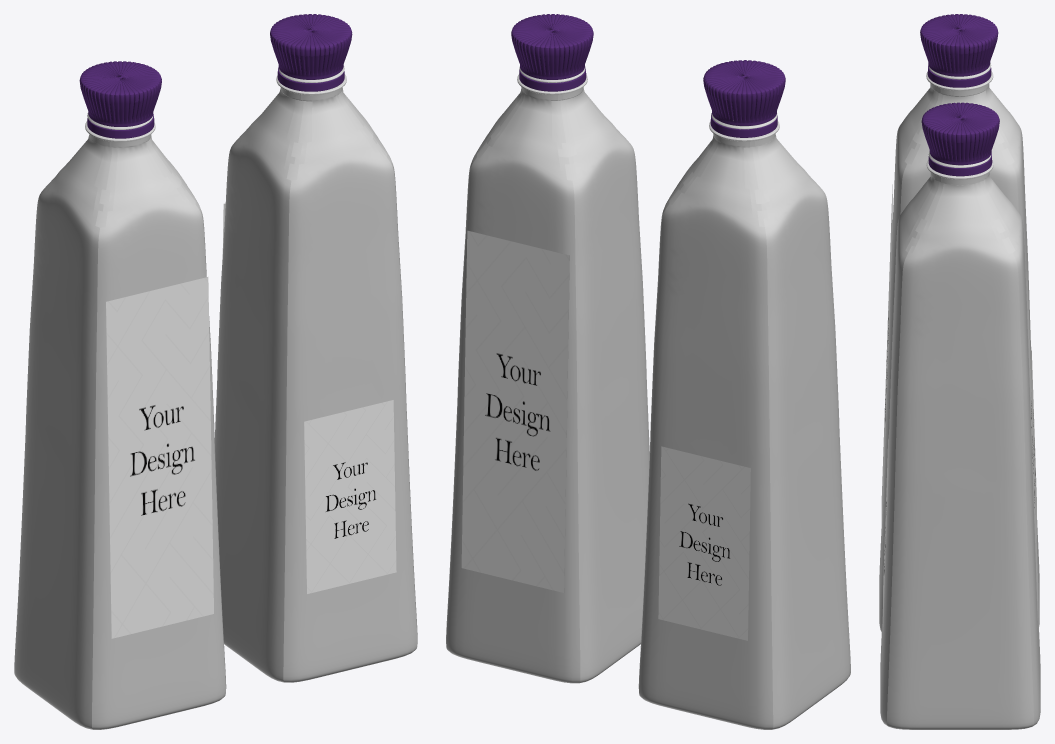
File: Plastic Bottle A-1.glb
The picture shows the model from 3 angles, left to right: view 1: azimuth 30°, elevation 25°; view 2: azimuth 150°, elevation 25°; view 3: azimuth 270°, elevation 25°; orthographic projection. The views are drawn at different scales.
Visible parts, largest first — view 1: bottle001.001, bottle001, Plane.001, Plane.004, Mesh_1, Mesh_1.001, Circle003001, Circle003001.001; view 2: bottle001, bottle001.001, Plane.004, Plane.001, Mesh_1, Mesh_1.001, Circle003001.001; view 3: bottle001.001, bottle001, Mesh_1, Mesh_1.001, Plane.001, Plane.004, Circle003001, Circle003001.001.
Boxes of the visible parts, x1,y1,x2,y2 form: bottle001.001: (214,66,417,682); bottle001: (14,113,226,729); Plane.001: (106,277,213,638); Plane.004: (222,210,396,593); Mesh_1: (79,61,161,126); Mesh_1.001: (270,14,352,79); Circle003001: (87,114,154,138); Circle003001.001: (277,67,344,91); bottle001: (638,113,850,729); bottle001.001: (446,66,649,683); Plane.004: (461,230,569,592); Plane.001: (658,446,750,640); Mesh_1: (703,60,785,125); Mesh_1.001: (511,14,593,79); Circle003001.001: (519,67,586,91); bottle001.001: (880,152,1040,729); bottle001: (879,63,1039,631); Mesh_1: (920,14,998,76); Mesh_1.001: (921,102,999,165); Plane.001: (881,184,1036,542); Plane.004: (883,272,1038,630); Circle003001: (927,65,991,87); Circle003001.001: (928,154,992,176).
Size of the model in its own units: 1.84 by 3.17 by 0.7985.
Materials: 4 (1 with a texture image).
